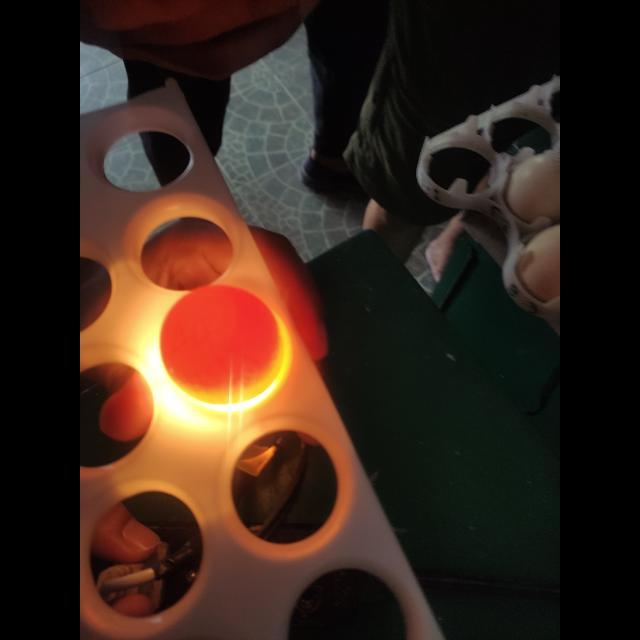Infertile: (160, 280, 292, 412)
